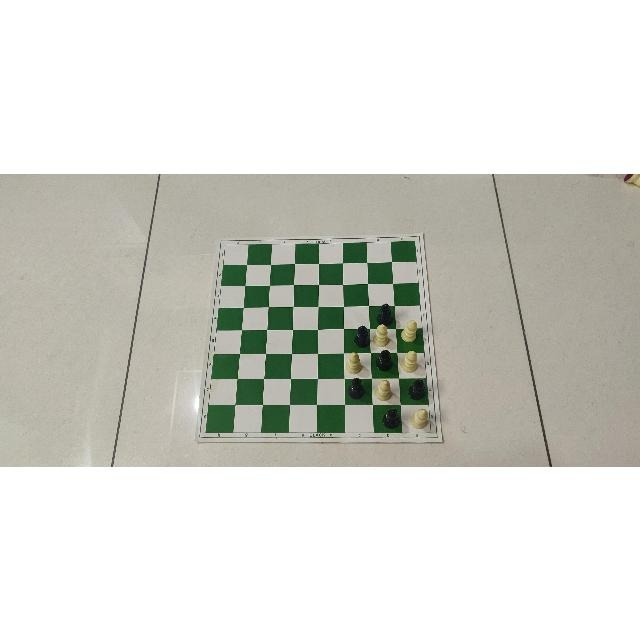black-bishop: (347, 377, 365, 399), (408, 377, 425, 400), (377, 301, 393, 325), (354, 322, 370, 346), (383, 408, 401, 428), (377, 349, 393, 371)
white-bishop: (399, 318, 419, 342), (345, 350, 363, 373), (400, 349, 417, 373), (373, 322, 389, 346), (410, 407, 427, 429), (375, 379, 391, 400)
